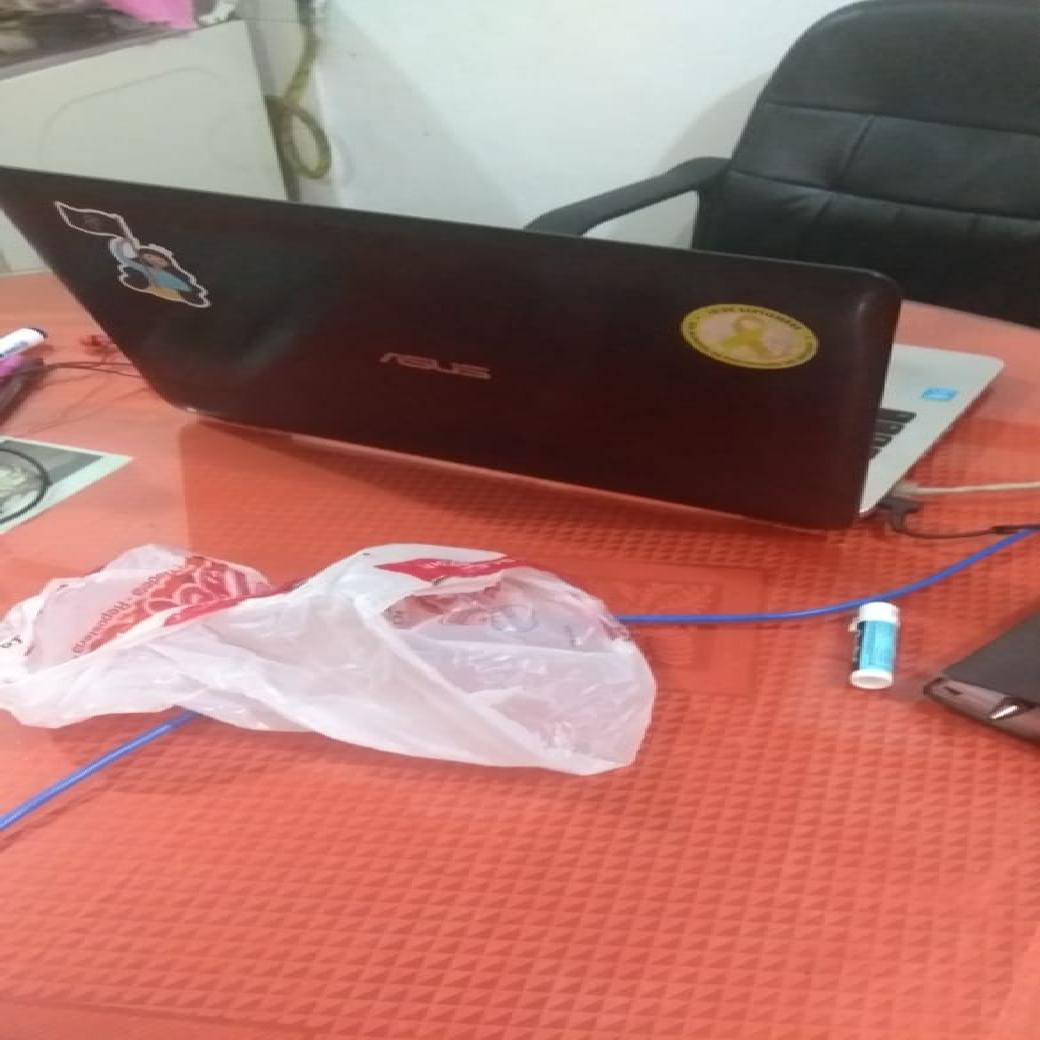laptop: (7, 154, 1001, 545)
